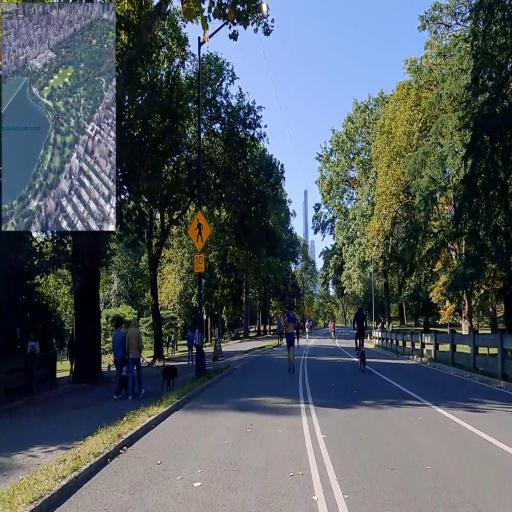Street_Light: (188, 0, 270, 371)
